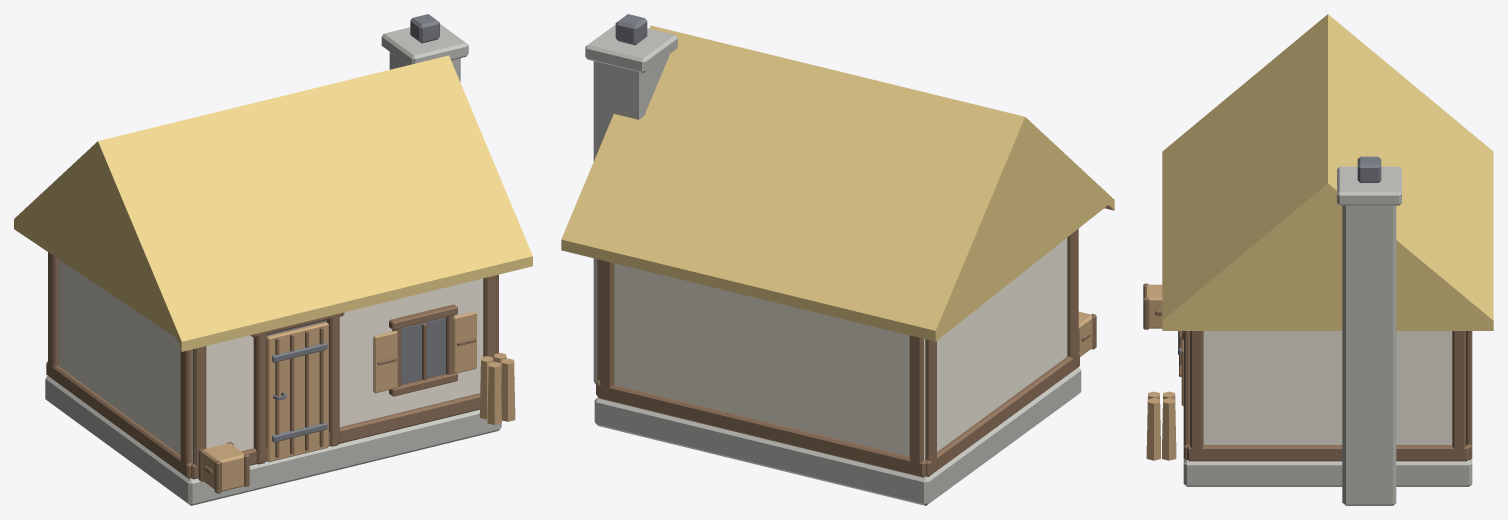
The model's file is thatched-cottage.glb.
The picture shows the model from 3 angles, left to right: view 1: azimuth 30°, elevation 25°; view 2: azimuth 150°, elevation 25°; view 3: azimuth 270°, elevation 25°; orthographic projection. The views are drawn at different scales.
Parts seen in each view (by area): view 1: thatched-cottage, door/wood, door/timber, door/iron; view 2: thatched-cottage; view 3: thatched-cottage.
Boxes of the visible parts, x1=… form: thatched-cottage: x1=14, y1=14, x2=532, y2=505; door/wood: x1=266, y1=322, x2=328, y2=461; door/timber: x1=275, y1=327, x2=323, y2=457; door/iron: x1=272, y1=342, x2=327, y2=442; thatched-cottage: x1=561, y1=14, x2=1114, y2=505; thatched-cottage: x1=1143, y1=14, x2=1493, y2=505.
Size of the model in its own units: 6.22 by 5.36 by 5.08.
